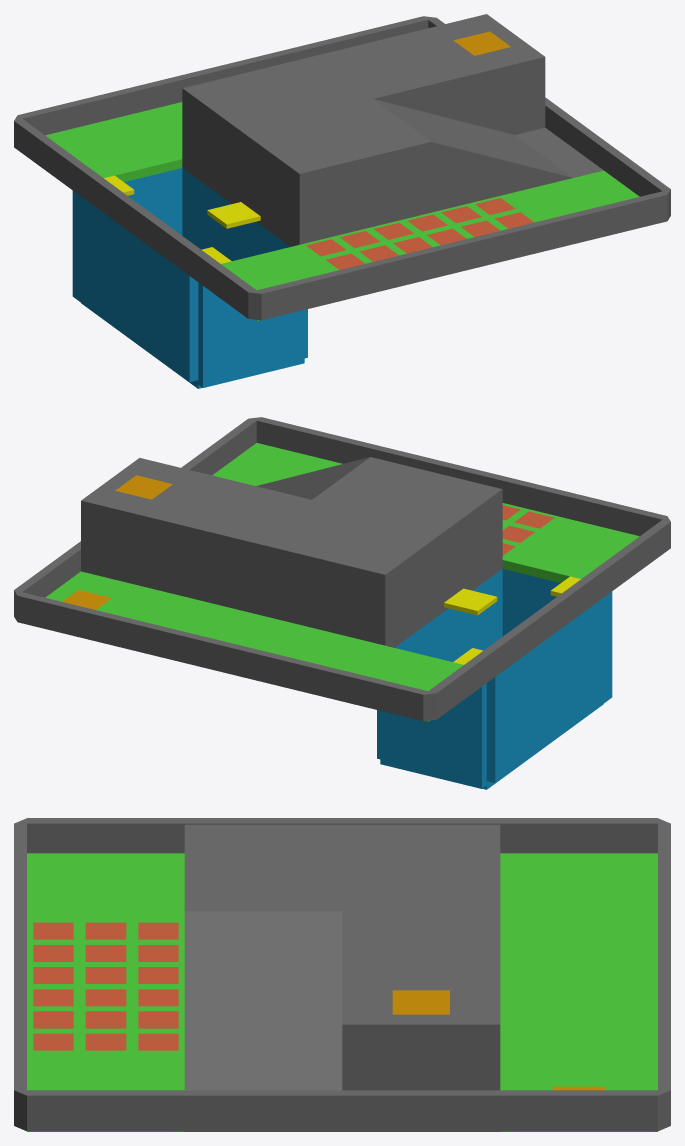
Rendered from Level001JoinedTerrain.fbx.
3 renders of one model, top to bottom at view 1: azimuth 30°, elevation 25°; view 2: azimuth 150°, elevation 25°; view 3: azimuth 270°, elevation 25°, orthographic. The views are drawn at different scales.
Parts seen in each view (by area): view 1: Terrain; view 2: Terrain; view 3: Terrain.
Boxes of the visible parts, x1,y1,x2,y2 form: Terrain: [14, 14, 670, 388]; Terrain: [14, 417, 670, 789]; Terrain: [14, 818, 670, 1131].
Bounding box in the file's own units: 2500 × 1075 × 2500.
